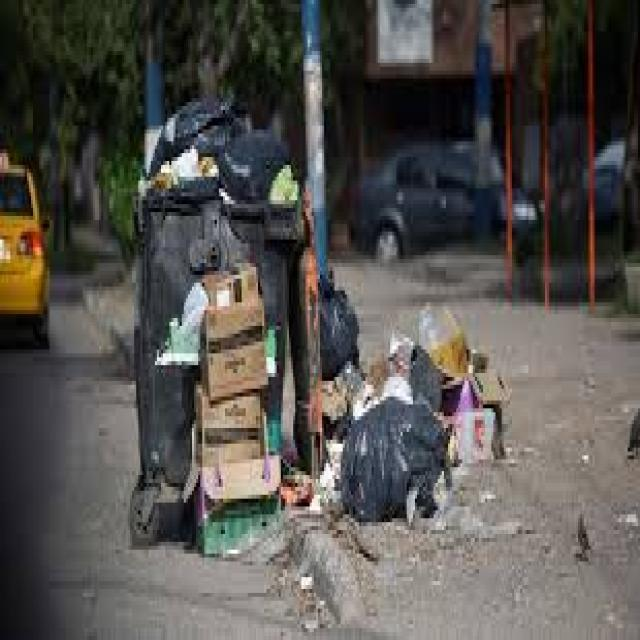Trashbag: (336, 397, 443, 515), (140, 95, 234, 169), (209, 137, 295, 199), (316, 281, 359, 377)
